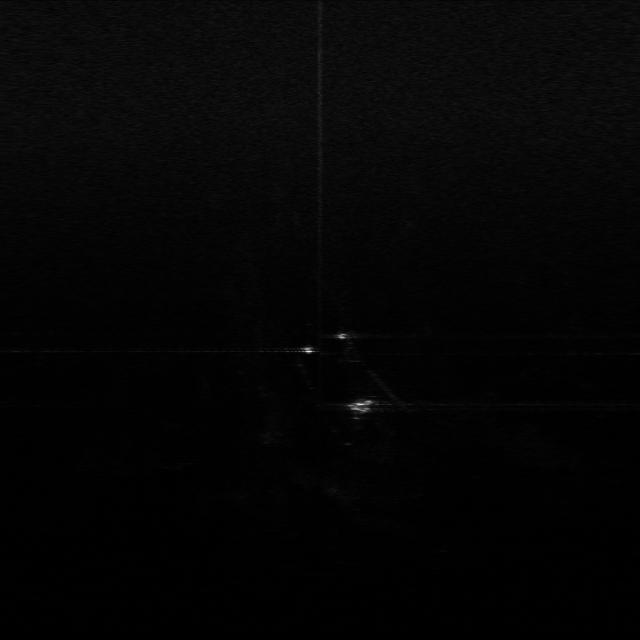rov: (342, 392, 379, 417)
